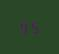five: (29, 20, 38, 33)
nine: (19, 20, 28, 34)
